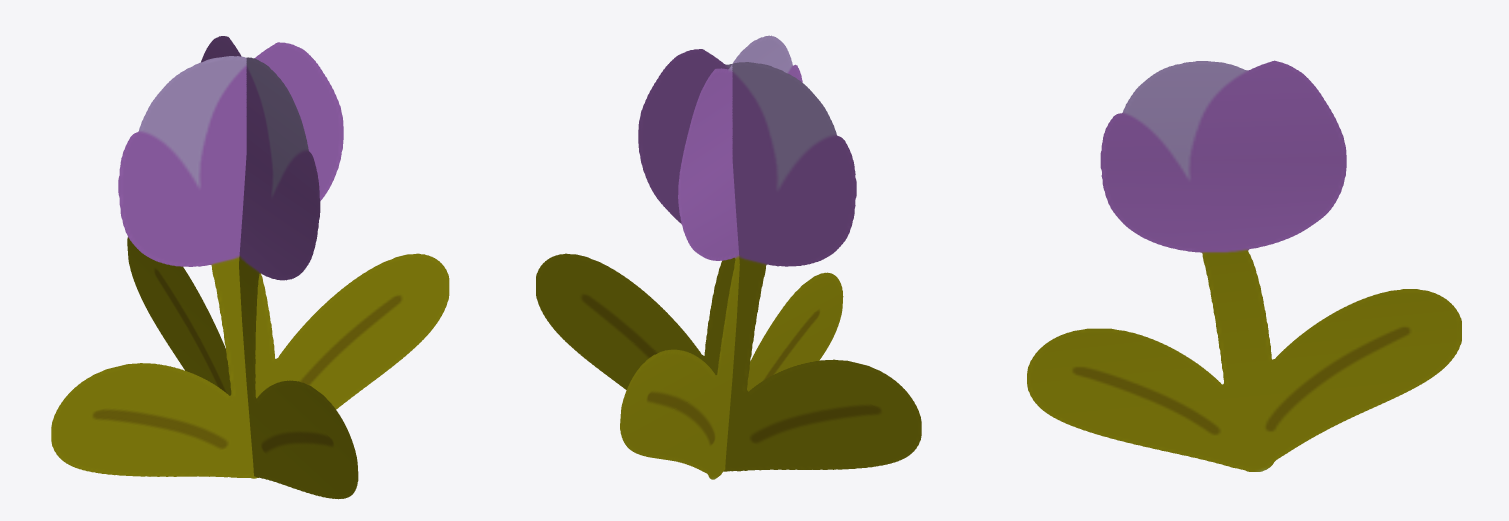
The model's file is TulipsPurple.fbx.
The picture shows the model from 3 angles, left to right: view 1: azimuth 30°, elevation 25°; view 2: azimuth 150°, elevation 25°; view 3: azimuth 270°, elevation 25°; orthographic projection. The views are drawn at different scales.
Parts seen in each view (by area): view 1: purpleTulip1, purpleTulip2; view 2: purpleTulip1, purpleTulip2; view 3: purpleTulip2.
Boxes of the visible parts, box(x1,y1,x2,y2) form: purpleTulip1: box(51, 42, 449, 478); purpleTulip2: box(127, 36, 358, 499); purpleTulip1: box(536, 49, 921, 471); purpleTulip2: box(620, 35, 843, 479); purpleTulip2: box(1027, 60, 1461, 471).
Bounding box in the file's own units: 1.08 × 0.9865 × 1.08.
